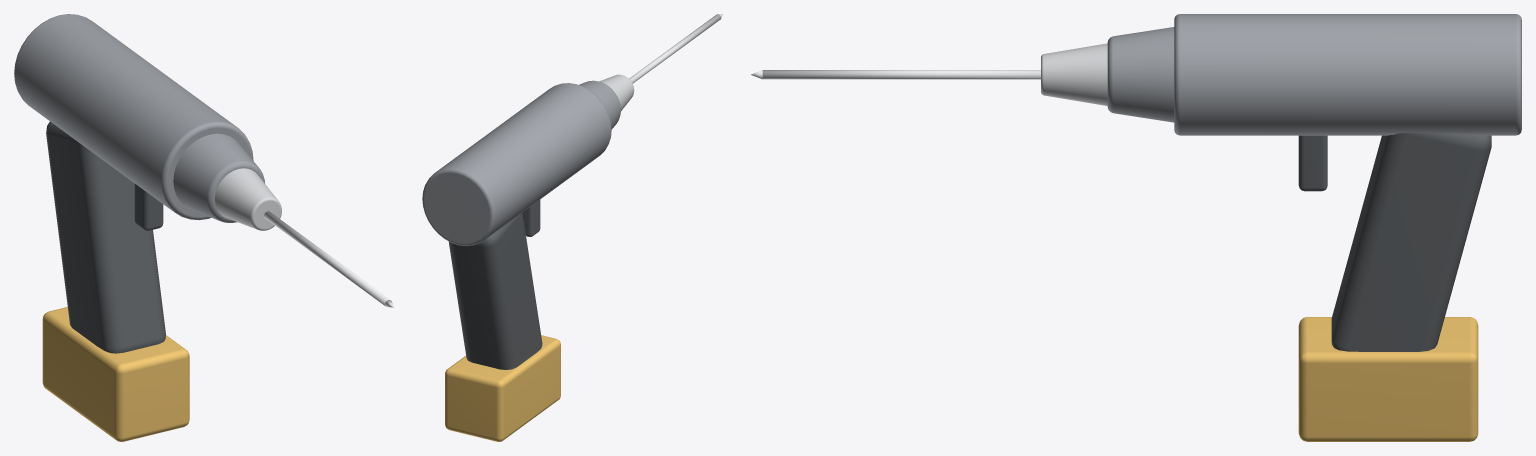
Rendered from inst.drill.fbx.
The picture shows the model from 3 angles, left to right: view 1: azimuth 30°, elevation 25°; view 2: azimuth 150°, elevation 25°; view 3: azimuth 270°, elevation 25°; orthographic projection. The views are drawn at different scales.
Parts seen in each view (by area): view 1: Housing, Grip, Battery, Chuck, Bit, Trigger; view 2: Housing, Grip, Battery, Bit, Chuck, Trigger; view 3: Housing, Grip, Battery, Chuck, Bit, Trigger.
Boxes of the visible parts, x1=… form: Housing: x1=14, y1=14, x2=265, y2=222; Grip: x1=46, y1=121, x2=165, y2=353; Battery: x1=42, y1=307, x2=189, y2=441; Chuck: x1=215, y1=168, x2=281, y2=230; Bit: x1=264, y1=211, x2=393, y2=307; Trigger: x1=134, y1=183, x2=163, y2=230; Housing: x1=422, y1=80, x2=620, y2=245; Grip: x1=448, y1=213, x2=542, y2=369; Battery: x1=445, y1=335, x2=560, y2=441; Bit: x1=629, y1=14, x2=722, y2=83; Chuck: x1=599, y1=74, x2=634, y2=110; Trigger: x1=522, y1=200, x2=540, y2=236; Housing: x1=1107, y1=14, x2=1521, y2=135; Grip: x1=1331, y1=133, x2=1491, y2=351; Battery: x1=1298, y1=317, x2=1478, y2=441; Chuck: x1=1041, y1=43, x2=1107, y2=105; Bit: x1=751, y1=70, x2=1040, y2=79; Trigger: x1=1298, y1=135, x2=1327, y2=191.
Size of the model in its own units: 0.042 by 0.154 by 0.266.
